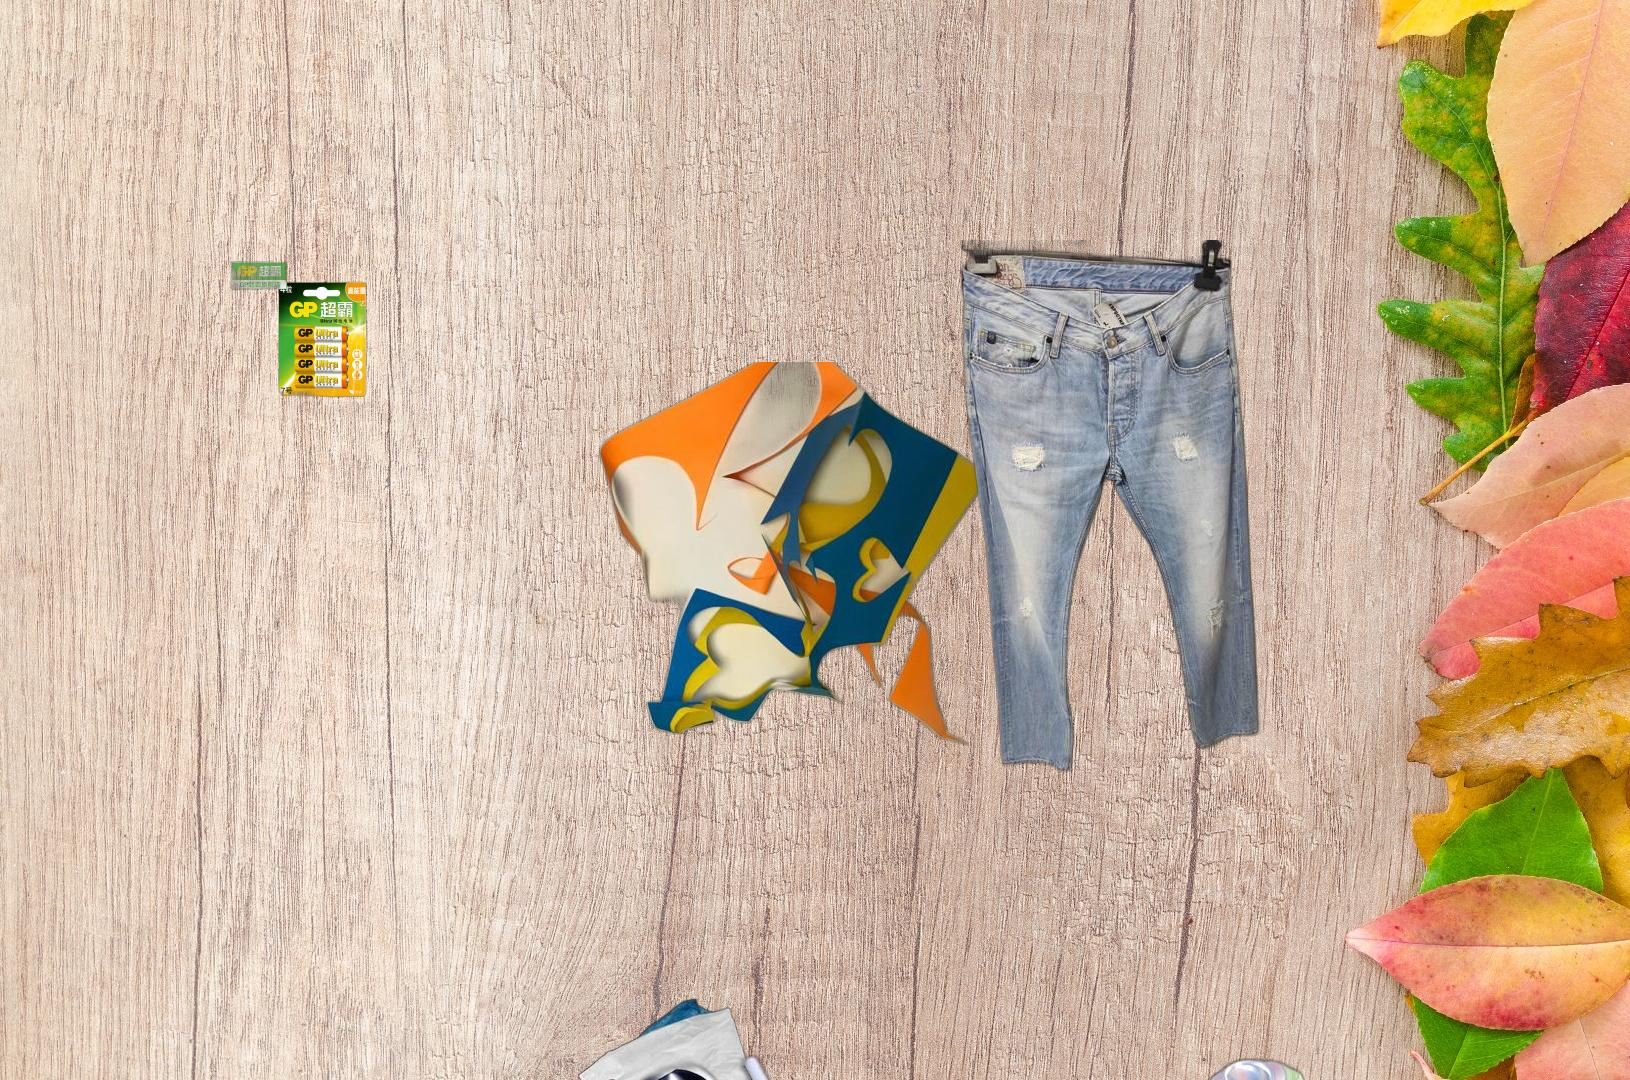battery: (230, 262, 390, 421)
clothes: (958, 240, 1263, 774)
metal-cans: (840, 1053, 1352, 1080)
paper: (569, 362, 990, 746)
paper-bag: (1629, 527, 1630, 755)
penholder: (629, 1047, 1026, 1080)
plastic-bag: (576, 996, 763, 1080)
trashbox-cardboard: (1416, 359, 1630, 1080)
